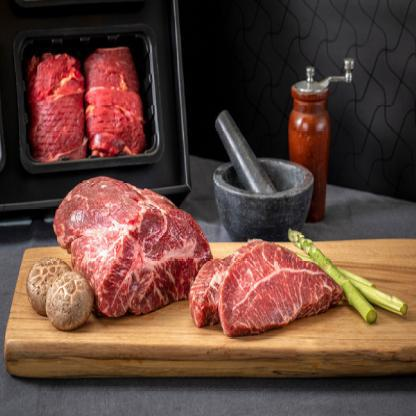beef: (63, 179, 198, 290), (196, 242, 334, 324)
